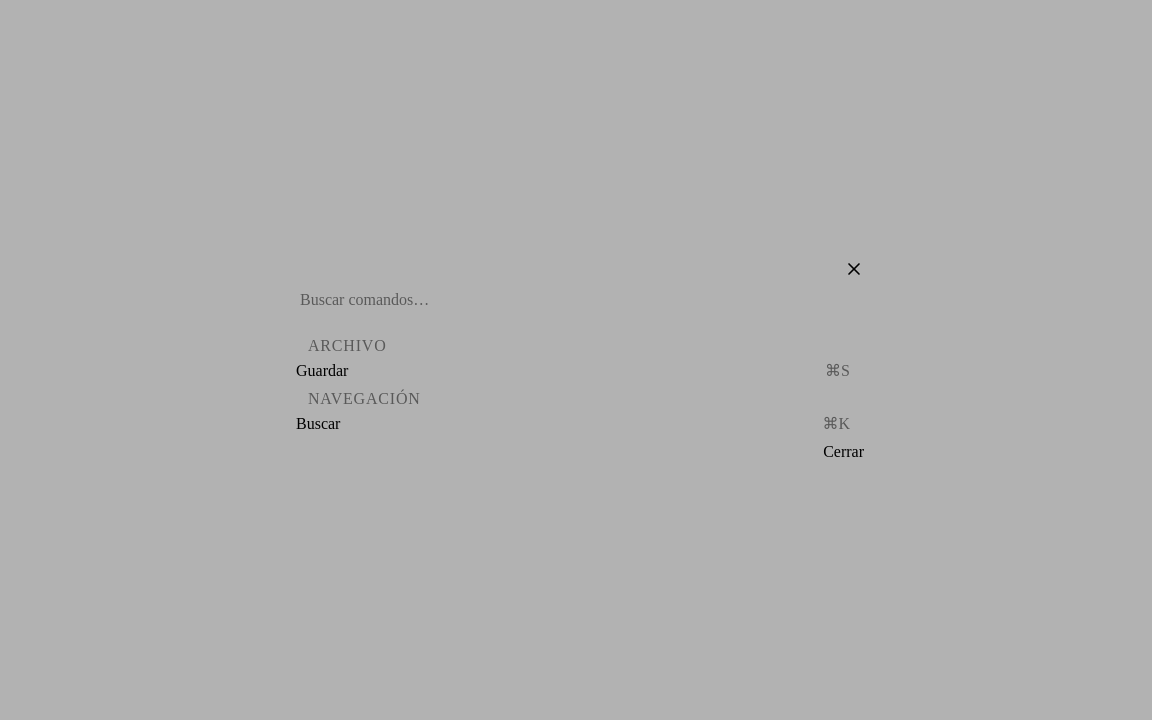
Test: CommandPalette — render de comandos › con una búsqueda sin coincidencias muestra el estado vacío
The image size is (1152, 720).
Type "zzzz" into the dropdown with placeholder "Buscar comandos…" at (576, 300), box [300,291,852,309]
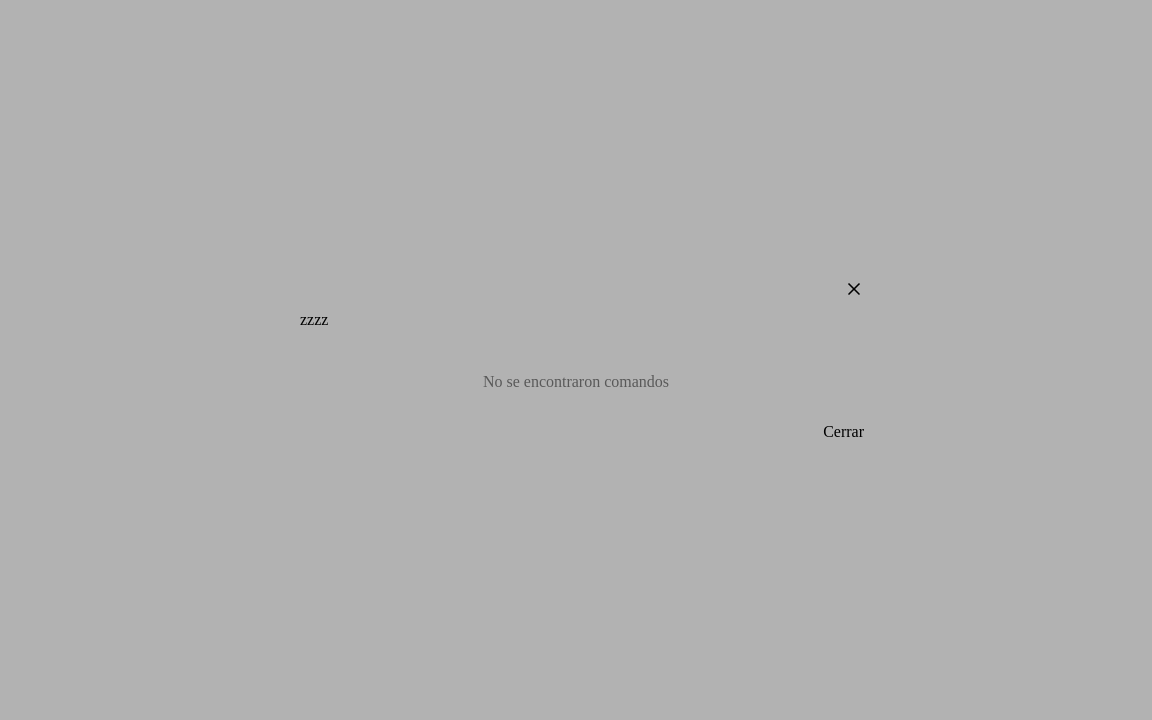
Check: the message "No se encontraron comandos" is shown, box [483,373,669,390]
Check: no options with class "cu-command-palette-item" are shown
